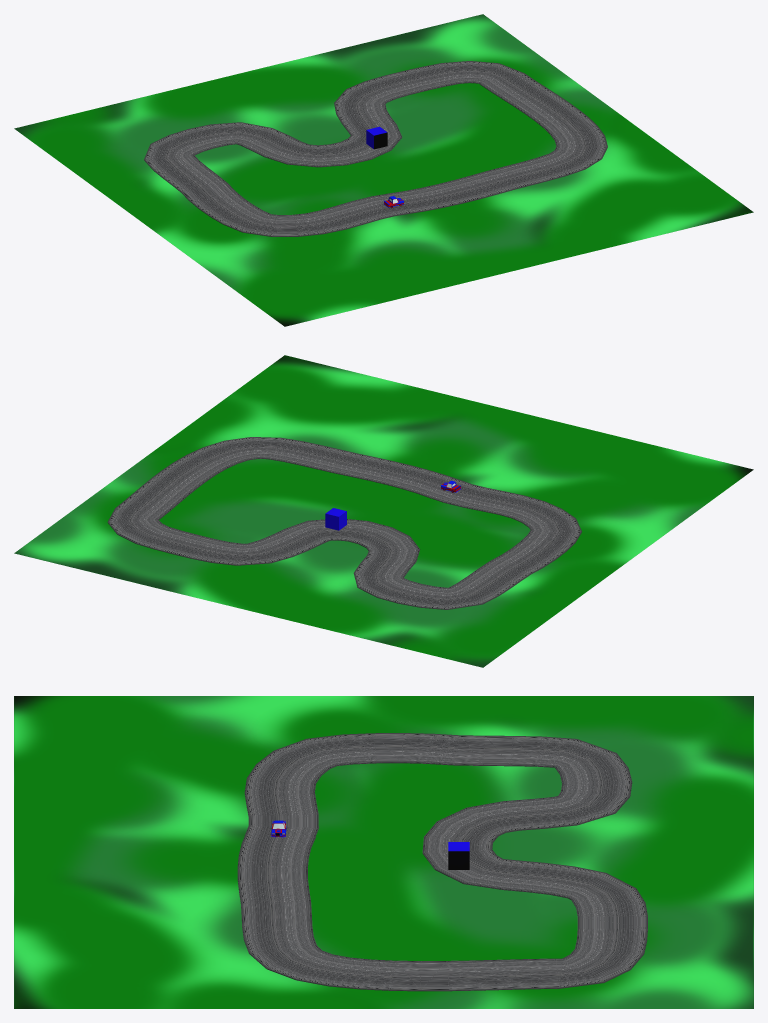
Rendered from road1.gltf.
3 views of the same model, one above another, from view 1: azimuth 30°, elevation 25°; view 2: azimuth 150°, elevation 25°; view 3: azimuth 270°, elevation 25° (orthographic). The views are drawn at different scales.
Parts seen in each view (by area): view 1: Plane, Road; view 2: Plane, Road; view 3: Plane, Road, Cube.001.
Boxes of the visible parts, bbox=[...] form: Plane: bbox=[14, 14, 753, 326]; Road: bbox=[144, 61, 607, 236]; Plane: bbox=[14, 355, 753, 667]; Road: bbox=[107, 437, 581, 609]; Plane: bbox=[14, 696, 753, 1008]; Road: bbox=[237, 733, 647, 991]; Cube.001: bbox=[448, 842, 469, 869].
Bounding box in the file's own units: 69.04 × 2.1 × 69.04.
